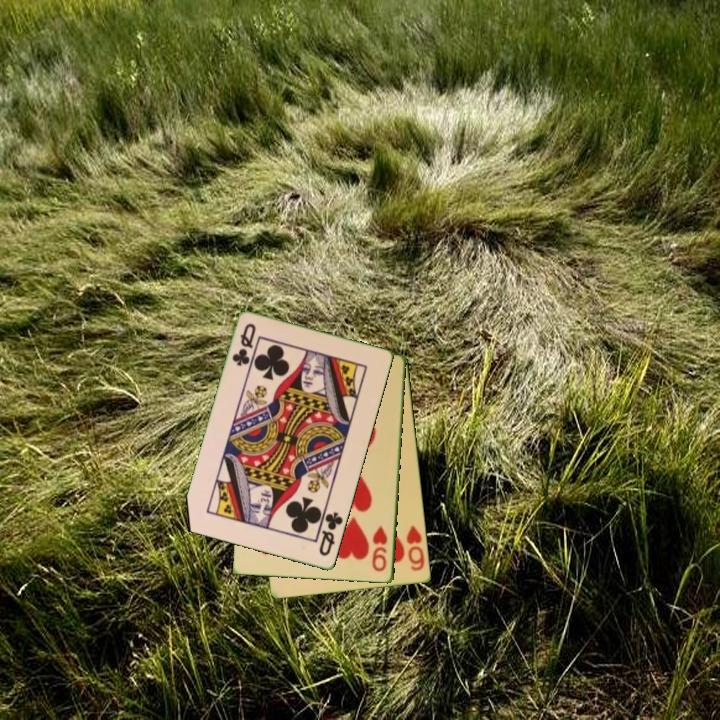6h: (403, 522, 428, 574)
9h: (369, 522, 391, 575)
Qc: (314, 505, 346, 559), (229, 320, 259, 370)
